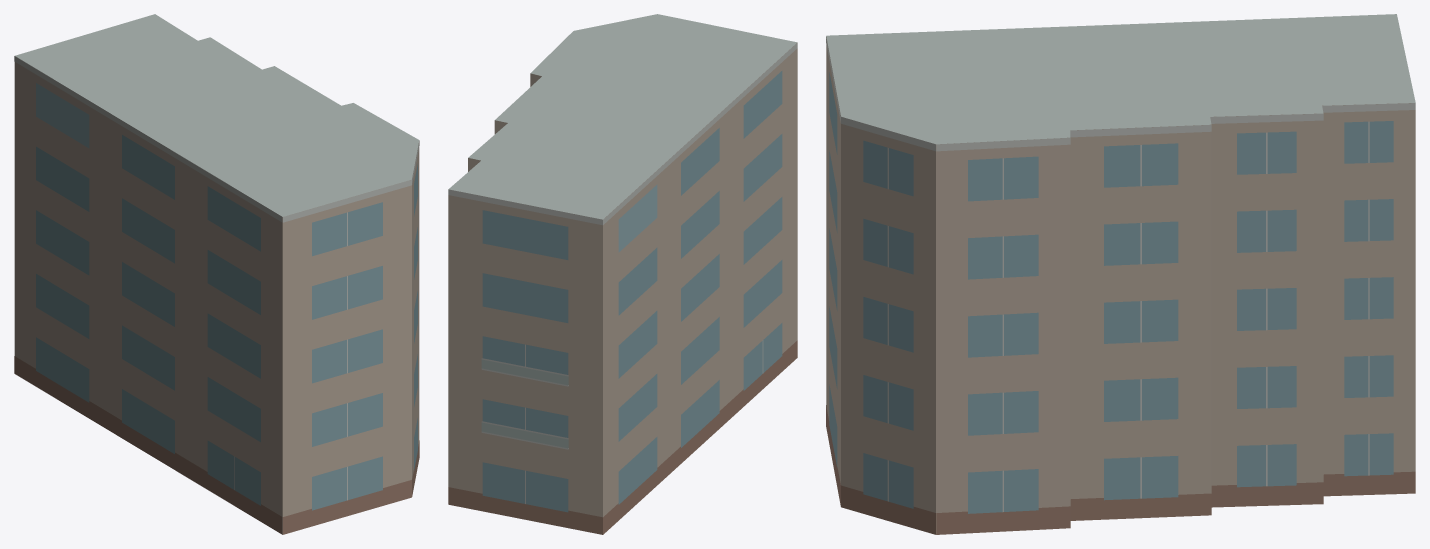
The model's file is survey-upis-33026630.glb.
3 renders of one model, left to right at view 1: azimuth 30°, elevation 25°; view 2: azimuth 150°, elevation 25°; view 3: azimuth 270°, elevation 25°, orthographic. The views are drawn at different scales.
Parts seen in each view (by area): view 1: survey-upis-33026630.tmp; view 2: survey-upis-33026630.tmp; view 3: survey-upis-33026630.tmp.
Boxes of the visible parts, x1,y1,x2,y2 form: survey-upis-33026630.tmp: (14,14,419,534); survey-upis-33026630.tmp: (448,14,797,534); survey-upis-33026630.tmp: (826,14,1415,534).
Size of the model in its own units: 9.67 by 13.5 by 18.48.
